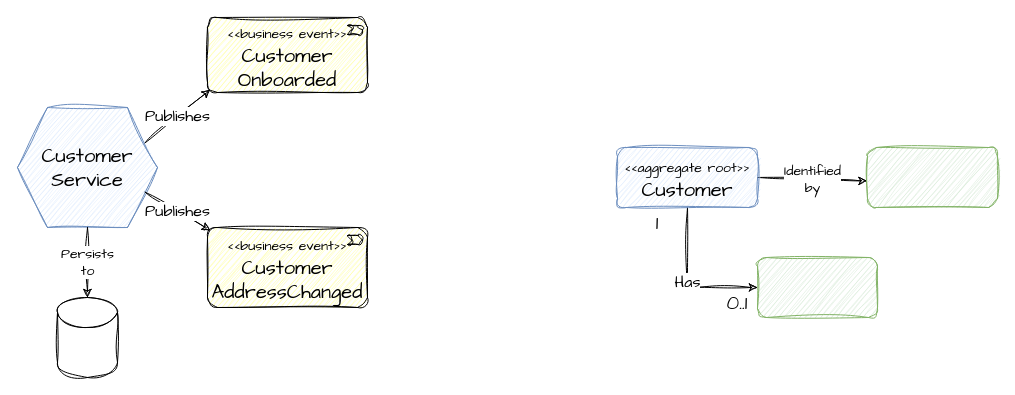
The diagram is 1015 pixels wide and 395 high, and some of its shapes have lost their labels. The centre of each missing label's shape, as x and y in pixels:
<<value type>> Address: the point at 817,287
<<value type>> CustomerId: the point at 932,177
